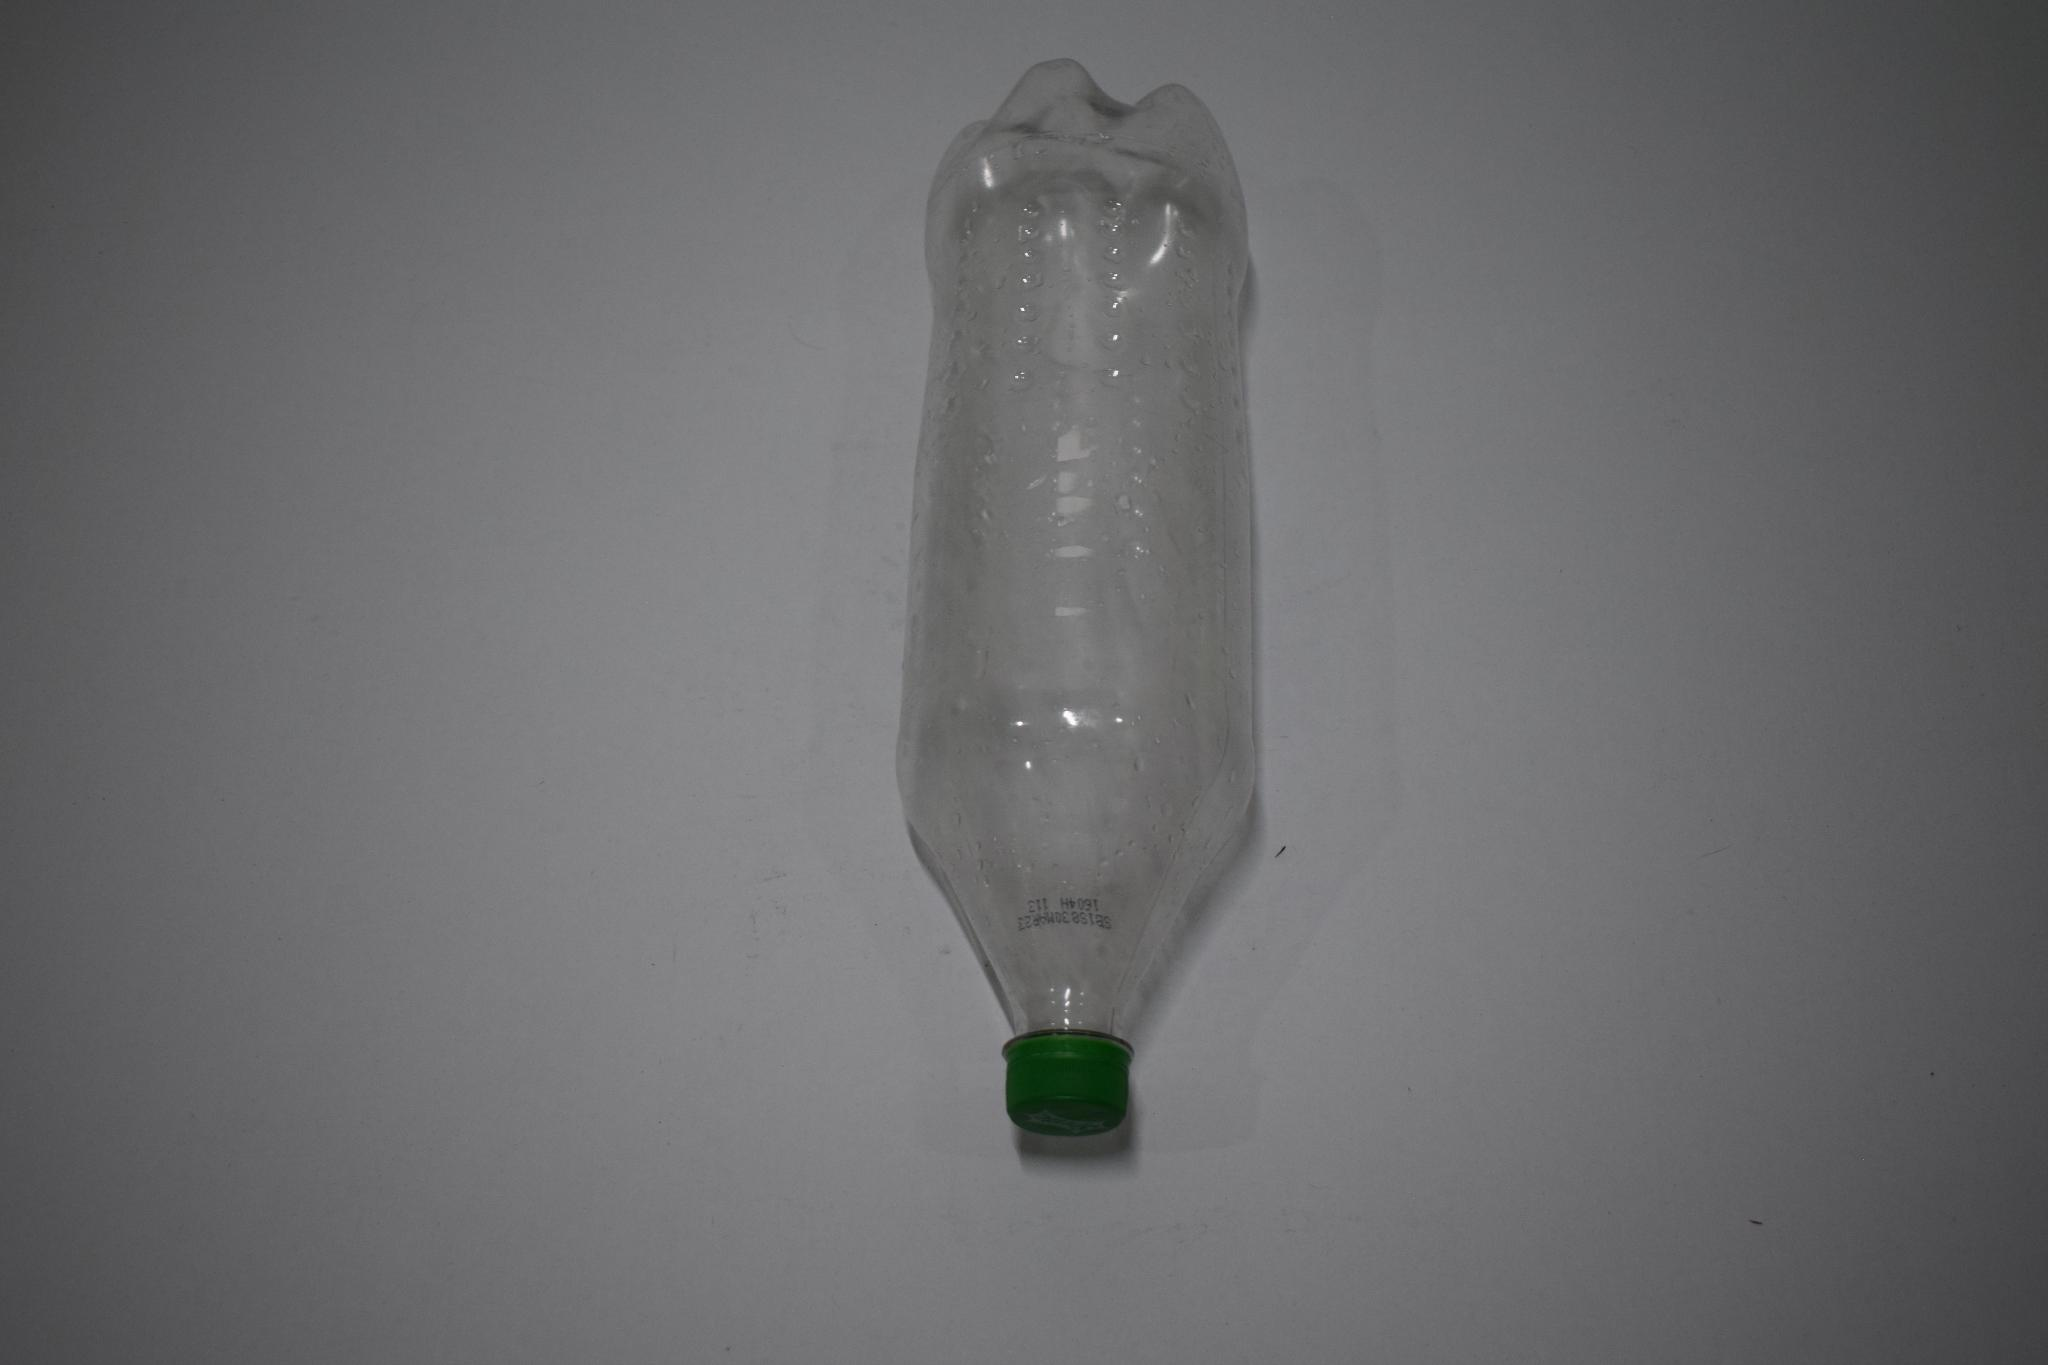bottle: (900, 51, 1288, 1143)
